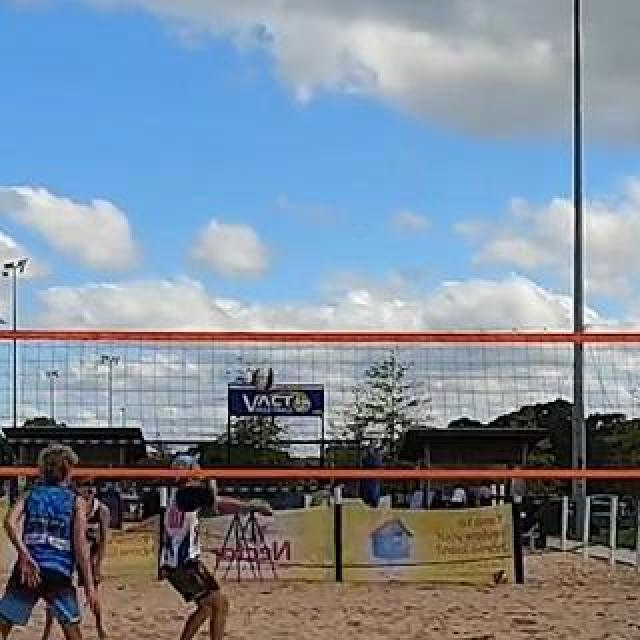volleyball: (251, 366, 277, 394), (494, 569, 510, 585)
